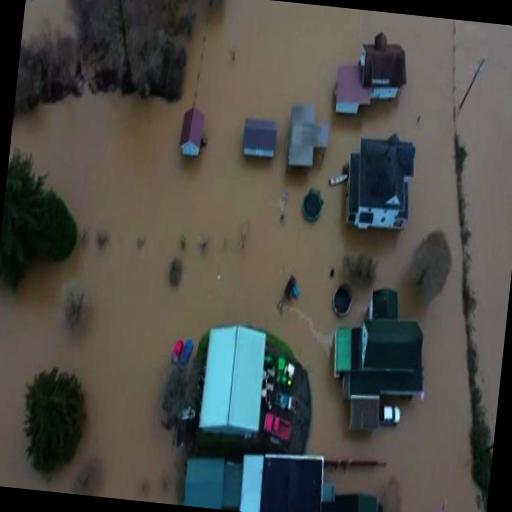flood: (0, 0, 458, 512), (197, 0, 483, 512), (268, 180, 428, 395), (454, 19, 512, 477), (264, 172, 341, 307), (20, 0, 76, 58)
house: (341, 300, 428, 434), (191, 322, 278, 452), (346, 128, 418, 234), (234, 444, 333, 512), (311, 451, 398, 512), (280, 92, 330, 180), (178, 450, 238, 510), (358, 36, 410, 100), (332, 62, 376, 119), (240, 112, 282, 170), (176, 106, 207, 160)
